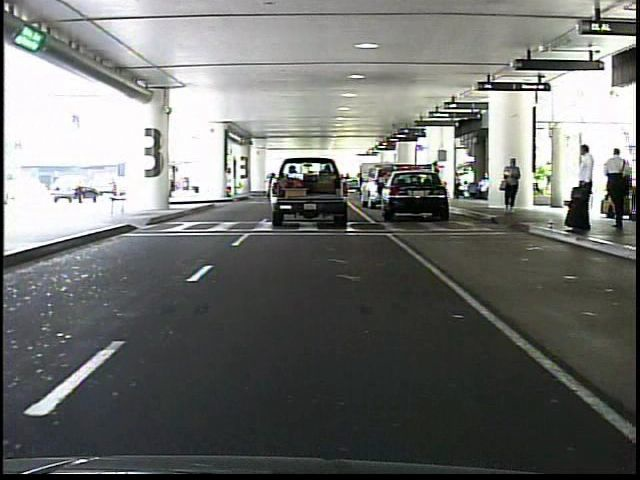person: (566, 140, 599, 238), (602, 143, 632, 232), (499, 152, 525, 219), (429, 159, 444, 204)
